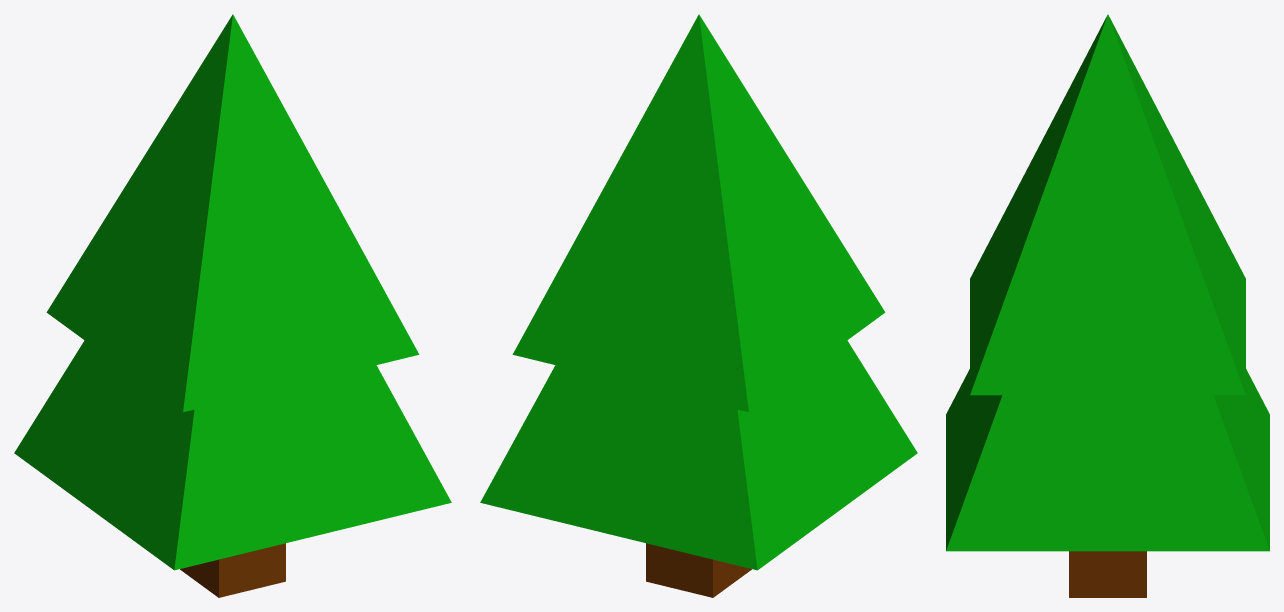
File: Tree_1.fbx
3 views of the same model, side by side, from view 1: azimuth 30°, elevation 25°; view 2: azimuth 150°, elevation 25°; view 3: azimuth 270°, elevation 25° (orthographic).
Parts seen in each view (by area): view 1: Tree_1; view 2: Tree_1; view 3: Tree_1.
Boxes of the visible parts, left/top/right/bottom form: Tree_1: left=14, top=14, right=451, bottom=597; Tree_1: left=480, top=14, right=917, bottom=597; Tree_1: left=946, top=14, right=1269, bottom=597.
Size of the model in its own units: 0.7751 by 0.7751 by 1.5.
